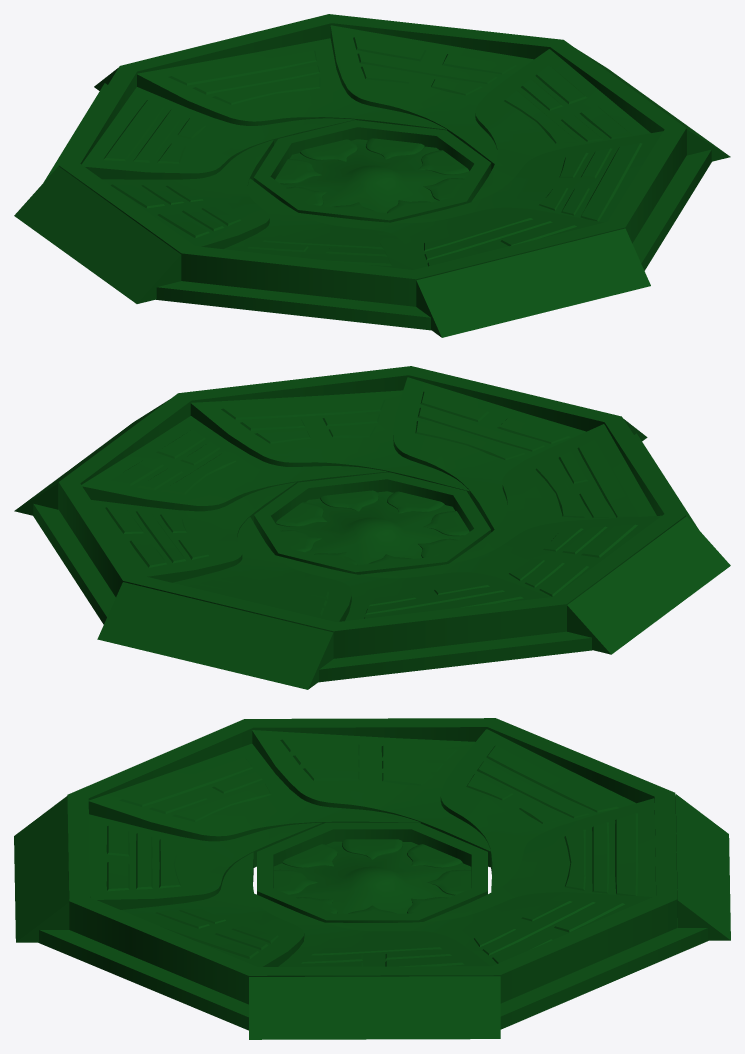
3 renders of one model, top to bottom at view 1: azimuth 30°, elevation 25°; view 2: azimuth 150°, elevation 25°; view 3: azimuth 270°, elevation 25°, orthographic. The views are drawn at different scales.
Visible parts, largest first — view 1: Cylinder022, 对象019, Cylinder021, Cylinder033, Cylinder032, Cylinder020, Cylinder031, Cylinder023, Cylinder025, Cylinder030, Cylinder029, Cylinder026 (+8 smaller); view 2: Cylinder022, 对象019, Cylinder021, Cylinder024, Cylinder032, Cylinder029, Cylinder023, Cylinder030, Cylinder028, Cylinder027, Cylinder031, Cylinder026 (+8 smaller); view 3: Cylinder022, 对象019, Cylinder034, Cylinder021, Cylinder026, Cylinder023, Cylinder027, Cylinder025, Cylinder028, Cylinder020, Cylinder033, Cylinder024 (+8 smaller).
Boxes of the visible parts, x1=… form: Cylinder022: x1=58, y1=14, x2=686, y2=306; 对象019: x1=103, y1=37, x2=642, y2=266; Cylinder021: x1=253, y1=120, x2=491, y2=222; Cylinder033: x1=416, y1=228, x2=650, y2=337; Cylinder032: x1=14, y1=166, x2=181, y2=303; Cylinder020: x1=137, y1=38, x2=446, y2=130; Cylinder031: x1=330, y1=25, x2=533, y2=170; Cylinder023: x1=43, y1=83, x2=711, y2=330; Cylinder025: x1=81, y1=87, x2=355, y2=179; Cylinder030: x1=471, y1=49, x2=650, y2=201; Cylinder029: x1=391, y1=131, x2=663, y2=222; Cylinder026: x1=102, y1=140, x2=273, y2=248; Cylinder022: x1=58, y1=366, x2=686, y2=658; 对象019: x1=105, y1=391, x2=638, y2=618; Cylinder021: x1=254, y1=472, x2=490, y2=574; Cylinder024: x1=97, y1=582, x2=333, y2=689; Cylinder032: x1=567, y1=516, x2=730, y2=654; Cylinder029: x1=190, y1=390, x2=469, y2=495; Cylinder023: x1=33, y1=433, x2=699, y2=682; Cylinder030: x1=81, y1=416, x2=387, y2=511; Cylinder028: x1=393, y1=377, x2=585, y2=532; Cylinder027: x1=449, y1=424, x2=656, y2=563; Cylinder031: x1=91, y1=482, x2=296, y2=582; Cylinder026: x1=359, y1=515, x2=661, y2=596; Cylinder022: x1=67, y1=718, x2=677, y2=1004; 对象019: x1=106, y1=739, x2=638, y2=966; Cylinder034: x1=249, y1=976, x2=500, y2=1039; Cylinder021: x1=257, y1=822, x2=487, y2=922; Cylinder026: x1=252, y1=730, x2=490, y2=867; Cylinder023: x1=38, y1=918, x2=708, y2=1030; Cylinder027: x1=88, y1=743, x2=420, y2=841; Cylinder025: x1=440, y1=729, x2=635, y2=892; Cylinder028: x1=89, y1=814, x2=322, y2=909; Cylinder020: x1=424, y1=798, x2=655, y2=921; Cylinder033: x1=14, y1=796, x2=69, y2=942; Cylinder024: x1=675, y1=794, x2=730, y2=940.
Bounding box in the file's own units: 661 × 42.59 × 661.
